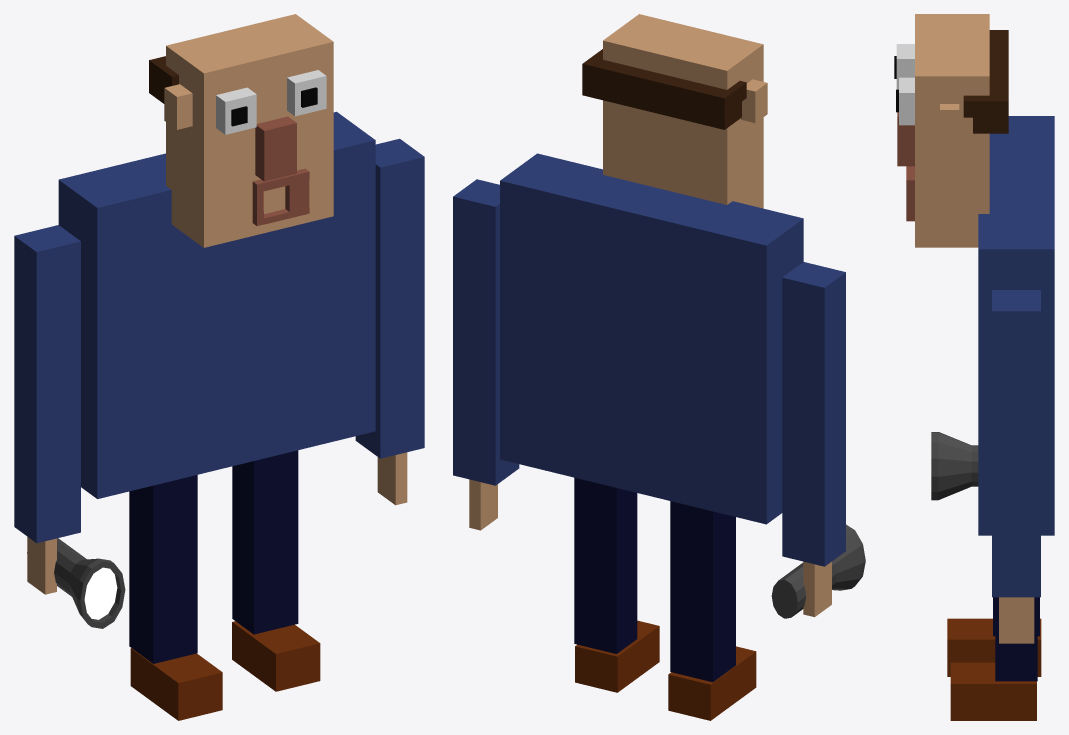
The model's file is man.gbl.glb.
3 views of the same model, side by side, from view 1: azimuth 30°, elevation 25°; view 2: azimuth 150°, elevation 25°; view 3: azimuth 270°, elevation 25° (orthographic). The views are drawn at different scales.
Visible parts, largest first — view 1: Cube.002, Cube.001, Cube.003, Cube, Cube.004, Cube.005, Cube.007, Cube.006, Cylinder, Cube.010, Cube.016, Cube.009 (+5 smaller); view 2: Cube.002, Cube.001, Cube.003, Cube, Cube.004, Cube.005, Cube.013, Cube.007, Cube.006, Cylinder, Cube.009, Cube.008 (+1 smaller); view 3: Cube.002, Cube.001, Cube, Cube.006, Cube.013, Cylinder, Cube.007, Cube.005, Cube.008, Cube.011, Cube.010, Cube.015 (+2 smaller).
Boxes of the visible parts, box(x1,y1,x2,y2) form: Cube.002: box(58, 111, 375, 498); Cube.001: box(166, 14, 333, 247); Cube.003: box(14, 225, 80, 543); Cube: box(355, 138, 424, 458); Cube.004: box(129, 475, 197, 663); Cube.005: box(232, 450, 298, 634); Cube.007: box(130, 648, 222, 720); Cube.006: box(232, 621, 320, 691); Cylinder: box(27, 538, 125, 628); Cube.010: box(255, 116, 296, 181); Cube.016: box(252, 168, 309, 225); Cube.009: box(27, 537, 56, 594); Cube.002: box(500, 153, 803, 524); Cube.001: box(603, 14, 763, 208); Cube.003: box(782, 262, 845, 566); Cube: box(453, 179, 519, 485); Cube.004: box(670, 501, 735, 682); Cube.005: box(574, 477, 637, 653); Cube.013: box(582, 49, 746, 129); Cube.007: box(668, 646, 756, 720); Cube.006: box(575, 620, 659, 692); Cylinder: box(771, 524, 865, 618); Cube.009: box(803, 561, 831, 617); Cube.008: box(469, 479, 497, 530); Cube.002: box(978, 116, 1054, 535); Cube.001: box(915, 14, 989, 247); Cube: box(992, 290, 1040, 597); Cube.006: box(950, 662, 1036, 720); Cube.013: box(963, 30, 1008, 133); Cylinder: box(931, 432, 978, 500); Cube.007: box(947, 618, 1041, 676); Cube.005: box(995, 597, 1037, 681); Cube.008: box(999, 597, 1034, 643); Cube.011: box(899, 77, 914, 125); Cube.010: box(897, 112, 914, 166); Cube.015: box(940, 104, 959, 142).
Bounding box in the file's own units: 2.78 × 4.52 × 1.02.
